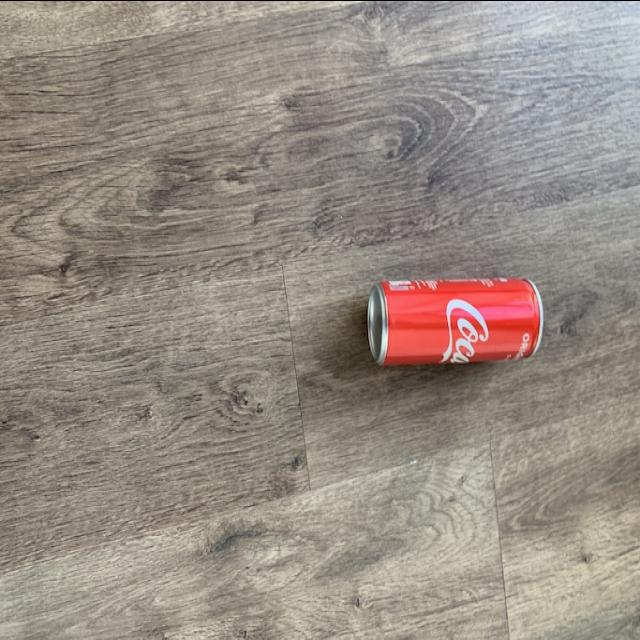Aluminum Can: (340, 250, 565, 384)
